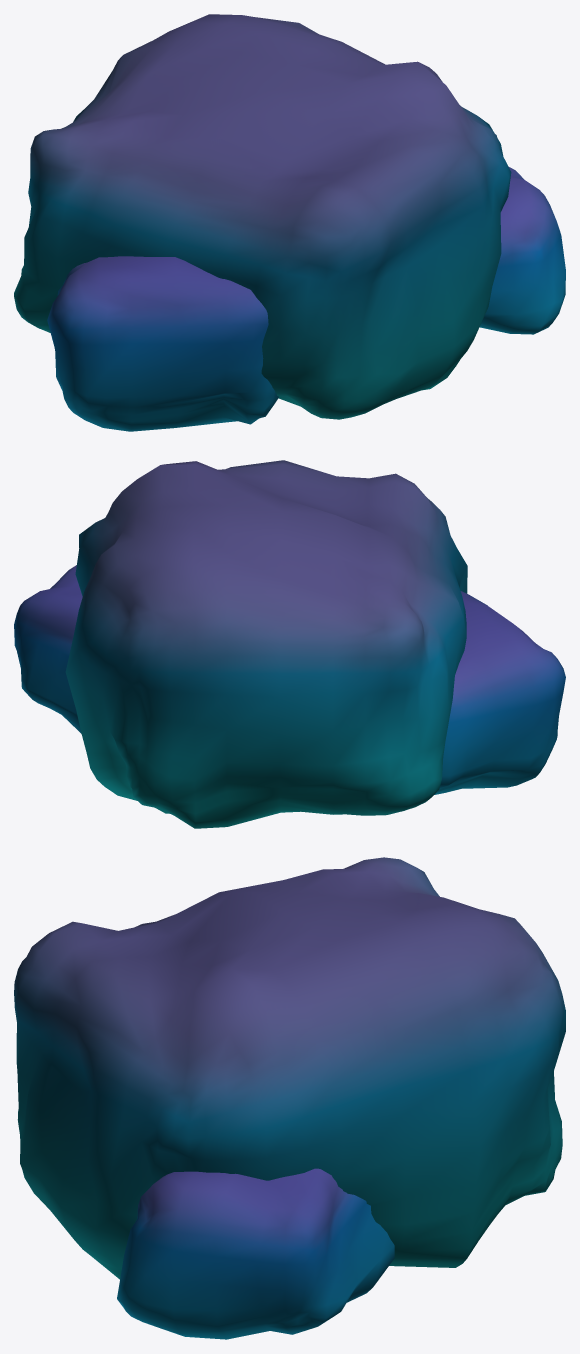
The model's file is coral_boulder_a.glb.
3 views of the same model, one above another, from view 1: azimuth 30°, elevation 25°; view 2: azimuth 150°, elevation 25°; view 3: azimuth 270°, elevation 25° (orthographic). The views are drawn at different scales.
Visible parts, largest first — view 1: coral_boulder_a; view 2: coral_boulder_a; view 3: coral_boulder_a.
Part boxes in pixels (box(x1,y1,x2,y2)): coral_boulder_a: box(14, 14, 565, 431); coral_boulder_a: box(14, 460, 565, 828); coral_boulder_a: box(14, 857, 565, 1339).
Size of what is drawn, in the model's own units: 0.9545 by 0.5239 by 0.7591.
